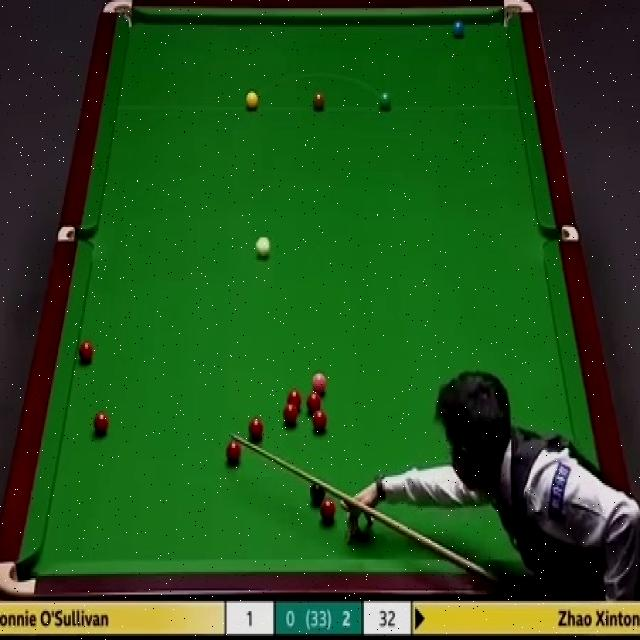black-ball: (309, 479, 326, 509)
blue-ball: (452, 17, 468, 42)
brown-ball: (312, 92, 326, 113)
green-ball: (378, 91, 392, 113)
pink-ball: (308, 370, 328, 396)
red-ball: (90, 408, 110, 438), (225, 441, 243, 469), (319, 499, 337, 524), (282, 403, 299, 428), (249, 419, 265, 444), (77, 340, 93, 364), (312, 409, 328, 432), (286, 389, 302, 411), (306, 392, 322, 412)
white-ball: (252, 232, 274, 263)
yellow-ball: (245, 90, 259, 112)
